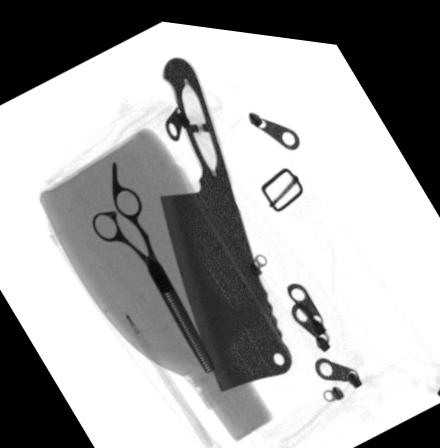Knife: (157, 51, 294, 387)
Scissors: (91, 157, 213, 366)
